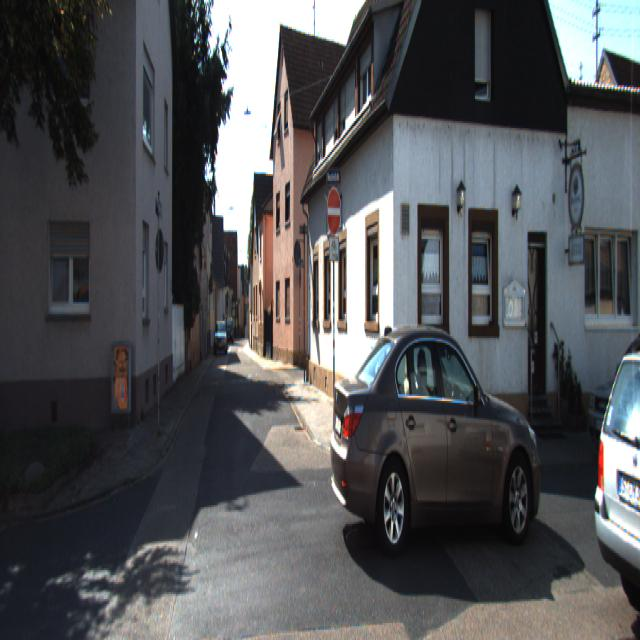Car: (330, 321, 548, 575)
